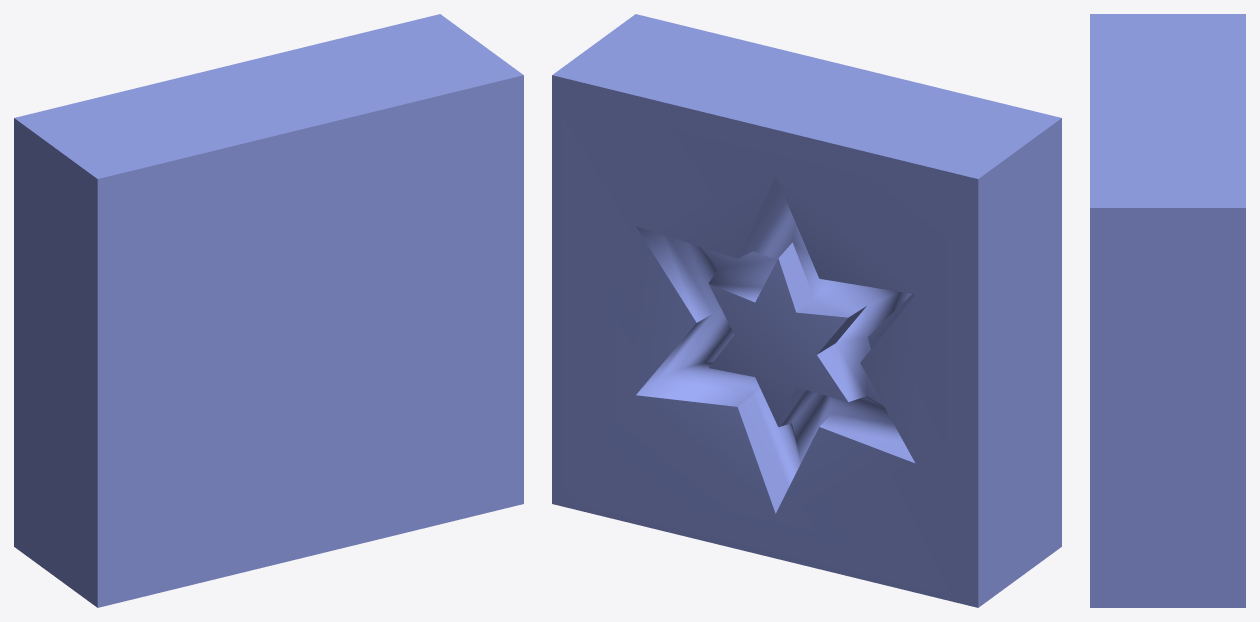
Rendered from FYP_TempleTrapCorridor_CodeBTN3.FBX.
3 views of the same model, side by side, from view 1: azimuth 30°, elevation 25°; view 2: azimuth 150°, elevation 25°; view 3: azimuth 270°, elevation 25° (orthographic). The views are drawn at different scales.
Visible parts, largest first — view 1: 3rdBox; view 2: 3rdBox; view 3: 3rdBox.
Part boxes in pixels (x1,y1,x2,y2): 3rdBox: (14,14,523,607); 3rdBox: (552,14,1061,607); 3rdBox: (1090,14,1245,607).
Size of the model in its own units: 2.6 by 2.5 by 0.8832.
